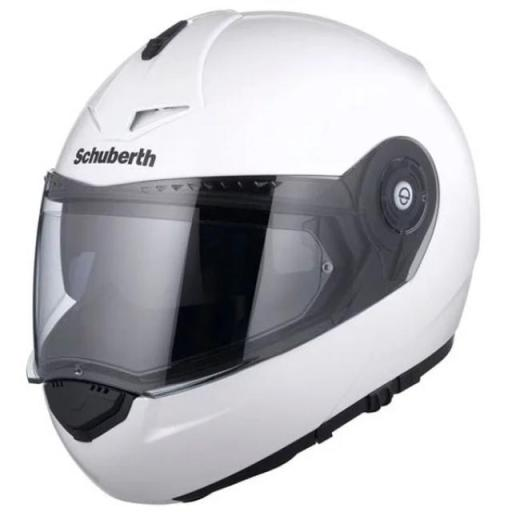Helmet: (42, 27, 470, 493)
